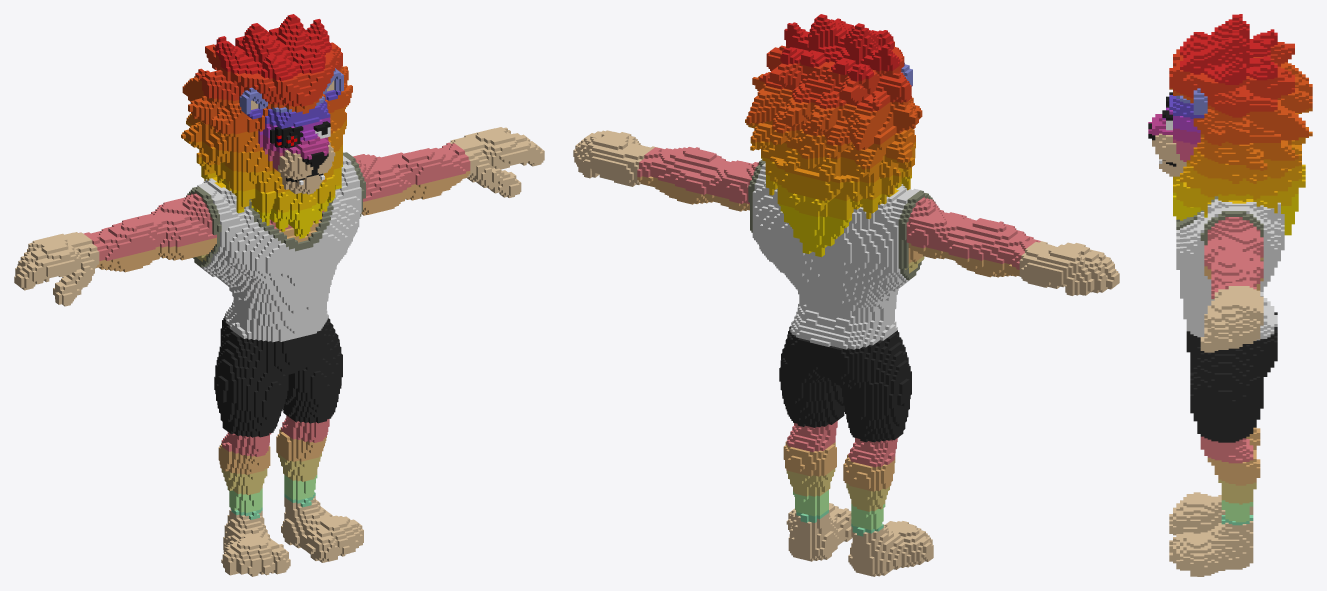
Rendered from 165-Cn1TNHmK.glb.
The picture shows the model from 3 angles, left to right: view 1: azimuth 30°, elevation 25°; view 2: azimuth 150°, elevation 25°; view 3: azimuth 270°, elevation 25°; orthographic projection. The views are drawn at different scales.
Visible parts, largest first — view 1: standard; view 2: standard; view 3: standard.
Part boxes in pixels (x1,y1,x2,y2): standard: (14, 14, 544, 576); standard: (573, 14, 1119, 576); standard: (1148, 14, 1312, 576).
Bounding box in the file's own units: 17.2 × 16.5 × 4.7.
Materials: 5 (5 with a texture image).
